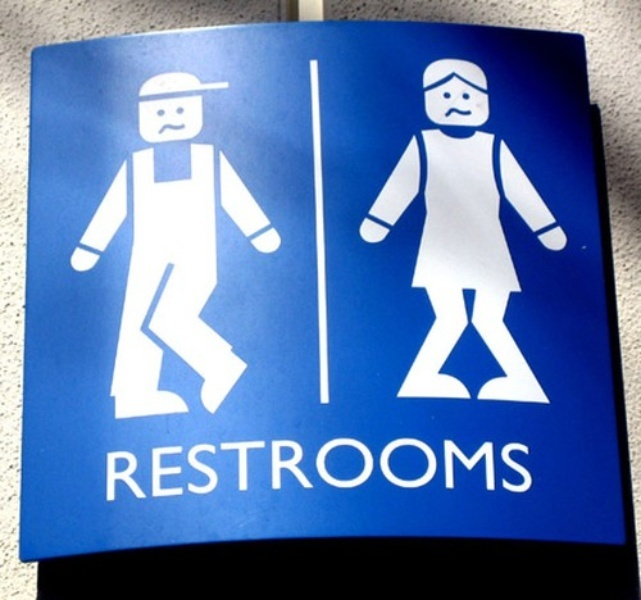text: (113, 434, 128, 503), (129, 434, 144, 503), (145, 434, 160, 503), (161, 434, 176, 503), (177, 434, 192, 503), (193, 434, 208, 503), (209, 434, 224, 503), (225, 434, 240, 503), (241, 434, 256, 503), (257, 434, 272, 503), (273, 434, 288, 503), (289, 434, 304, 503), (305, 434, 320, 503), (321, 434, 336, 503), (337, 434, 352, 503), (353, 434, 368, 503), (369, 434, 384, 503), (385, 434, 400, 503), (401, 434, 416, 503), (417, 434, 432, 503), (433, 434, 448, 503), (449, 434, 464, 503), (465, 434, 480, 503), (481, 434, 496, 503), (497, 434, 512, 503), (513, 434, 528, 503), (102, 434, 112, 503), (529, 434, 535, 503)
